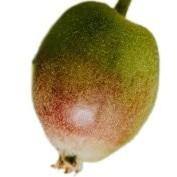fruit: (30, 1, 161, 170)
